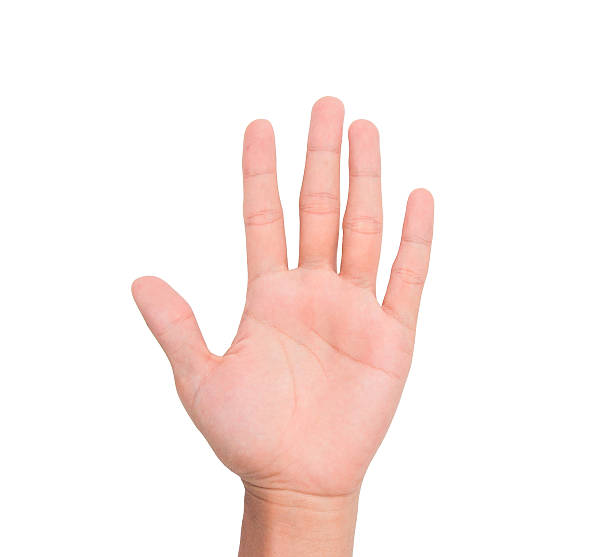non-diseased: (145, 92, 438, 477)
